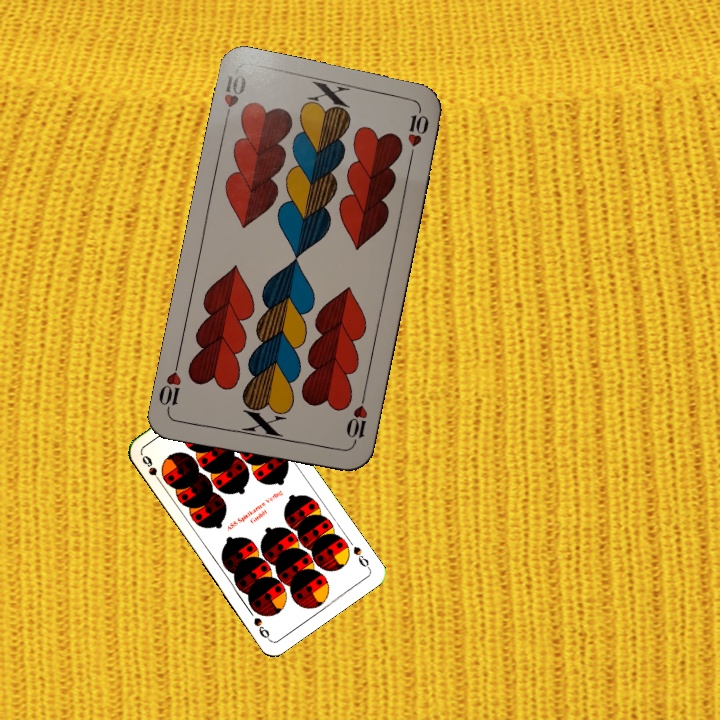H10: (219, 70, 249, 128), (342, 391, 370, 450)
S9: (138, 451, 166, 487), (349, 543, 373, 572)
